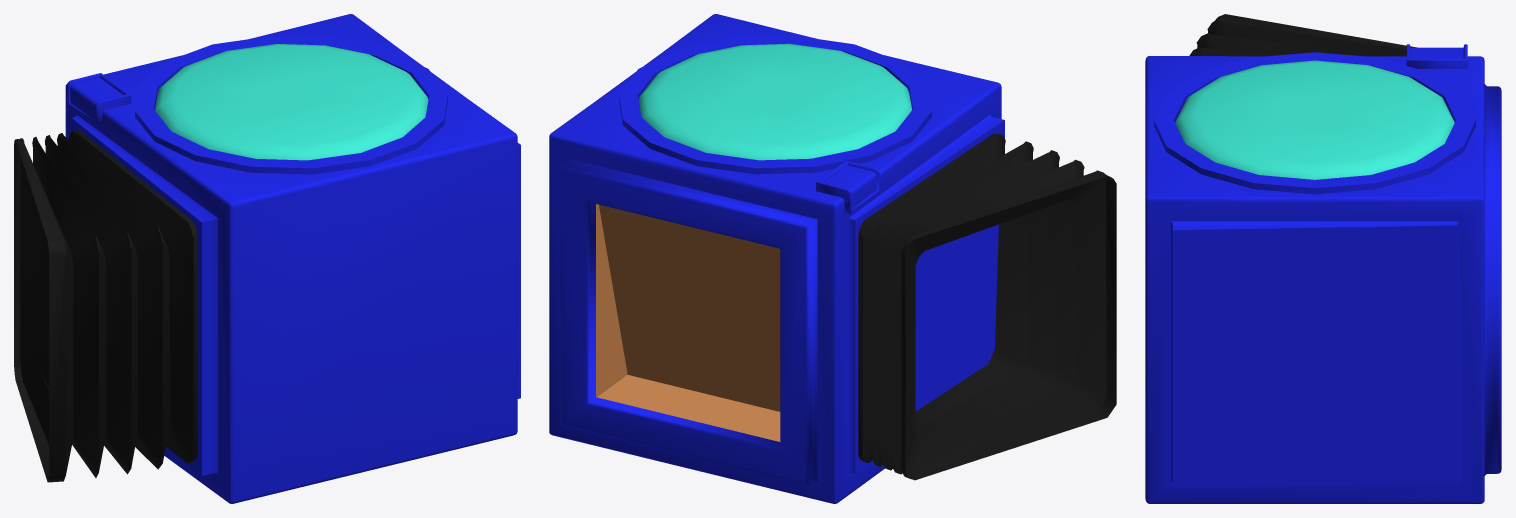
The picture shows the model from 3 angles, left to right: view 1: azimuth 30°, elevation 25°; view 2: azimuth 150°, elevation 25°; view 3: azimuth 270°, elevation 25°; orthographic projection.
Parts seen in each view (by area): view 1: Box; view 2: Box, Change; view 3: Box.
Boxes of the visible parts, x1,y1,x2,y2 form: Box: (14,14,520,503); Box: (549,14,1116,503); Change: (596,204,780,441); Box: (1145,14,1501,503).
Size of the model in its own units: 1.57 by 1.05 by 1.04.
